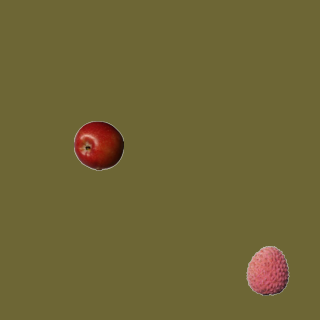Apple Braeburn: (73, 120, 123, 170)
Lychee: (242, 245, 292, 295)
